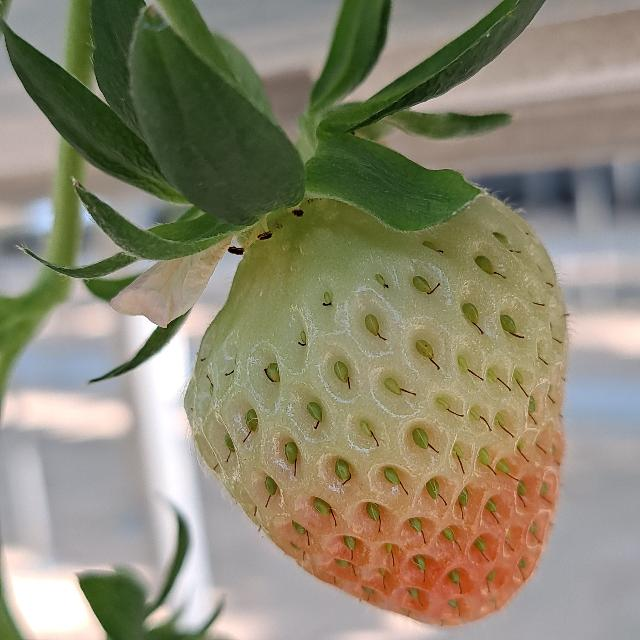Health_50: (184, 194, 568, 624)
